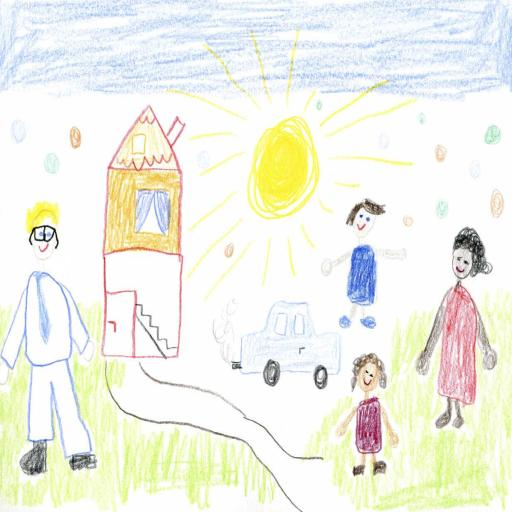person: (1, 198, 99, 487), (417, 223, 501, 430), (323, 200, 408, 332), (328, 351, 405, 480)
